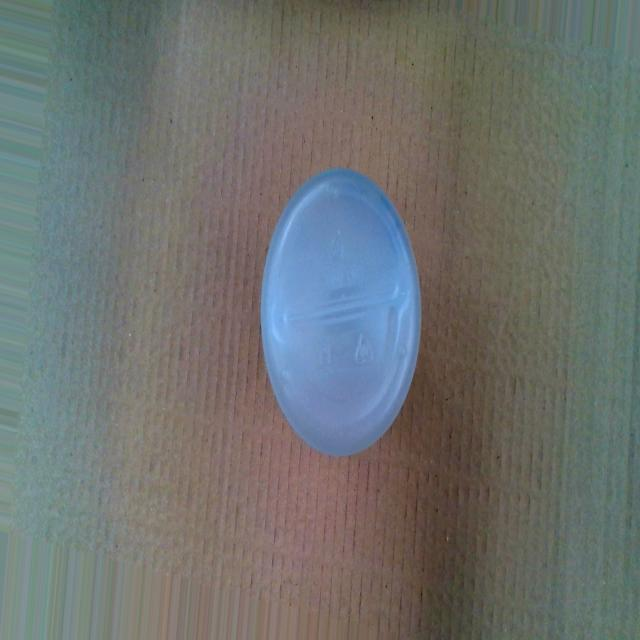bottle: (257, 168, 424, 464)
